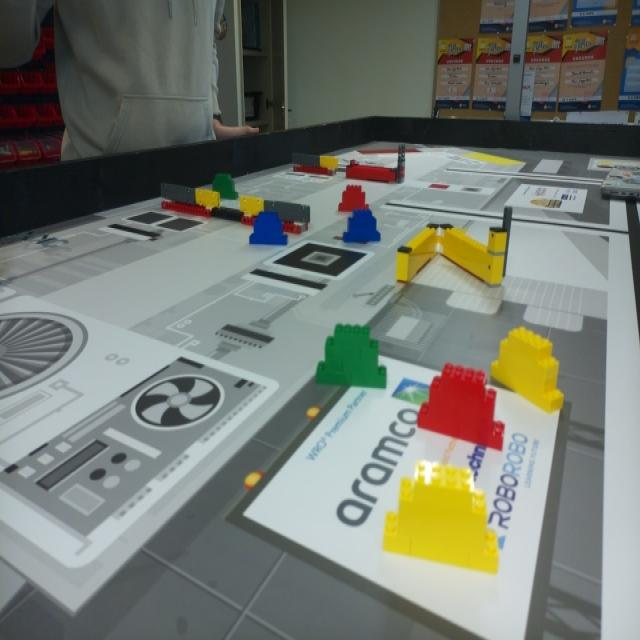blau: (248, 213, 288, 245), (344, 211, 380, 240)
gruen: (316, 324, 385, 387), (211, 176, 237, 200)
rot: (419, 361, 504, 447), (338, 185, 367, 212)
yellow: (386, 457, 500, 574), (490, 322, 565, 414)
